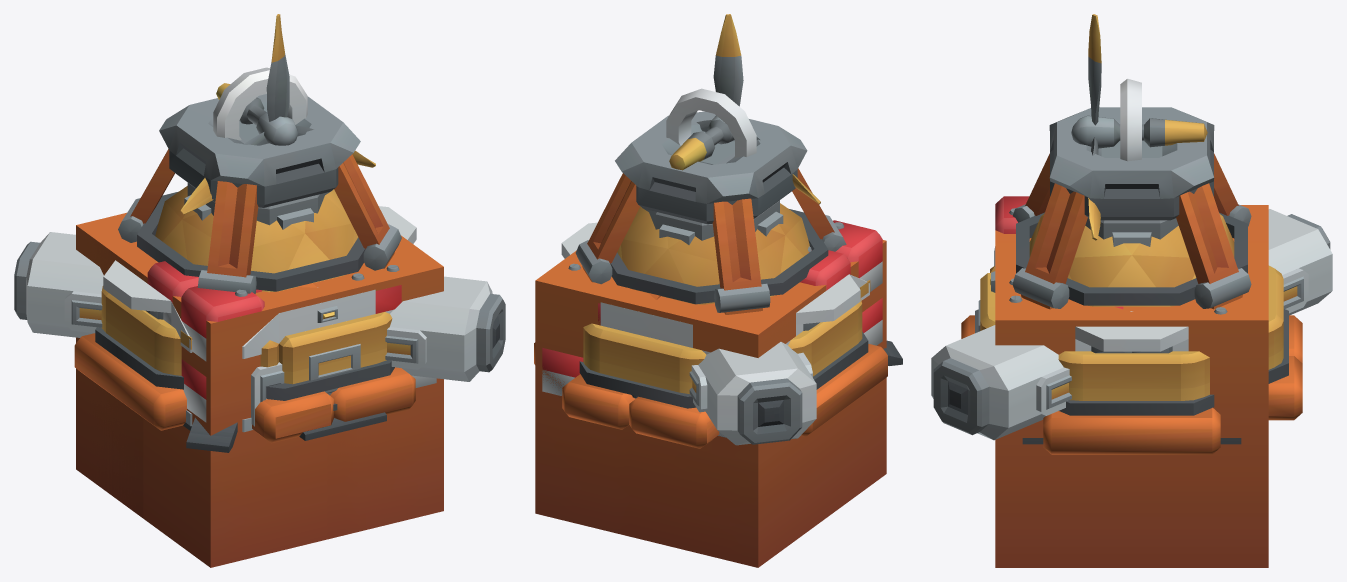
File: spacebase.glb
3 renders of one model, left to right at view 1: azimuth 30°, elevation 25°; view 2: azimuth 150°, elevation 25°; view 3: azimuth 270°, elevation 25°, orthographic. The views are drawn at different scales.
Parts seen in each view (by area): view 1: structure_tall, terrain_slope, terrain_low, tunnel_diagonal_long_A, basemodule_E, landingpad_large, terrain_tall, terrain_low_curved, terrain_tall_curved, windturbine_tall_fan, basemodule_A, terrain_slope_outer_corner (+8 smaller); view 2: terrain_low, structure_tall, basemodule_E, landingpad_large, tunnel_diagonal_long_A, terrain_slope_inner_corner, terrain_slope, windturbine_tall_fan, basemodule_B, terrain_mining, cargodepot_A, basemodule_D (+3 smaller); view 3: terrain_low, structure_tall, tunnel_diagonal_long_A, basemodule_E, landingpad_large, terrain_slope, terrain_mining, windturbine_tall_fan, terrain_slope_outer_corner, basemodule_D, drill_module, basemodule_B (+2 smaller).
Boxes of the visible parts, x1,y1,x2,y2 form: structure_tall: (118, 94, 401, 293); terrain_slope: (76, 267, 443, 542); terrain_low: (76, 368, 443, 567); tunnel_diagonal_long_A: (14, 232, 505, 381); basemodule_E: (101, 186, 392, 409); landingpad_large: (74, 327, 415, 443); terrain_tall: (76, 227, 443, 534); terrain_low_curved: (76, 369, 443, 539); terrain_tall_curved: (76, 227, 443, 514); windturbine_tall_fan: (180, 14, 375, 214); basemodule_A: (186, 306, 391, 452); terrain_slope_outer_corner: (210, 389, 443, 544); terrain_low: (535, 378, 886, 567); structure_tall: (575, 111, 846, 314); basemodule_E: (583, 203, 862, 376); landingpad_large: (534, 331, 887, 448); tunnel_diagonal_long_A: (689, 342, 816, 445); terrain_slope_inner_corner: (535, 281, 886, 525); terrain_slope: (535, 280, 886, 511); windturbine_tall_fan: (666, 14, 820, 204); basemodule_B: (583, 323, 703, 393); terrain_mining: (535, 240, 886, 334); cargodepot_A: (702, 220, 882, 354); basemodule_D: (561, 222, 860, 324); terrain_low: (995, 444, 1268, 567); structure_tall: (1012, 107, 1251, 309); tunnel_diagonal_long_A: (931, 209, 1332, 440); basemodule_E: (978, 213, 1273, 400); landingpad_large: (961, 309, 1302, 454); terrain_slope: (995, 306, 1268, 490); terrain_mining: (995, 205, 1268, 320); windturbine_tall_fan: (1071, 14, 1207, 240); terrain_slope_outer_corner: (997, 320, 1268, 457); basemodule_D: (1075, 326, 1188, 351); drill_module: (1085, 218, 1178, 246); basemodule_B: (1058, 265, 1283, 369).
Size of the model in its own units: 2.94 by 4 by 2.94.
Materials: 1 (1 with a texture image).
